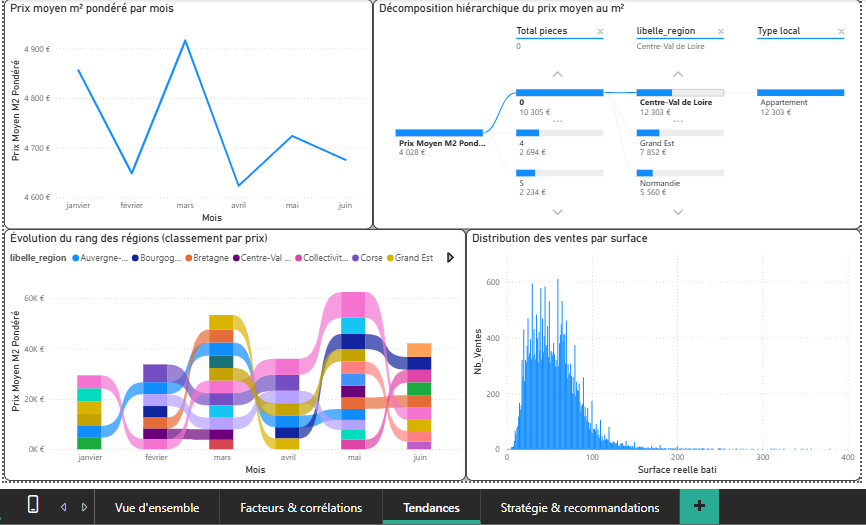

The page's visual inventory and layout, read from the dashboard file:
{"tool":"powerbi","page":{"name":"Tendances","canvas":[1280,720],"ordinal":2},"visuals":[{"type":"lineChart","title":"Prix moyen m² pondéré par mois","fields":{"Category":["Ventes.Date mutation.Variation.Hiérarchie de dates.Mois","Ventes.Date mutation.Variation.Hiérarchie de dates.Jour"],"Y":["Ventes.Prix Moyen M2 Pondéré"]},"box":[0,0,551.2,343.6],"z":0},{"type":"decompositionTreeVisual","title":"Décomposition hiérarchique du prix moyen au m²","fields":{"Analyze":["Ventes.Prix Moyen M2 Pondéré"],"ExplainBy":["Bien.Total pieces","Region.libelle_region","Bien.Type local"]},"box":[551.2,0,729,343.6],"z":1},{"type":"ribbonChart","title":"Évolution du rang des régions (classement par prix)","fields":{"Category":["Ventes.Date mutation.Variation.Hiérarchie de dates.Mois","Ventes.Date mutation.Variation.Hiérarchie de dates.Jour"],"Y":["Ventes.Prix Moyen M2 Pondéré"],"Series":["Region.libelle_region"]},"box":[0,343.6,690.1,376.4],"z":2},{"type":"columnChart","title":"Distribution des ventes par surface","fields":{"Category":["Bien.Surface reelle bati"],"Y":["Ventes.Nb_Ventes"]},"box":[690.1,343.6,590,376.4],"z":3}]}

Visuals, with their boxes in screenshot pixels (x1, y1, x2, y2):
"Prix moyen m² pondéré par mois" lineChart: <box>2,0,370,227</box>
"Décomposition hiérarchique du prix moyen au m²" decompositionTreeVisual: <box>370,0,856,227</box>
"Évolution du rang des régions (classement par prix)" ribbonChart: <box>2,227,463,478</box>
"Distribution des ventes par surface" columnChart: <box>463,227,856,478</box>
